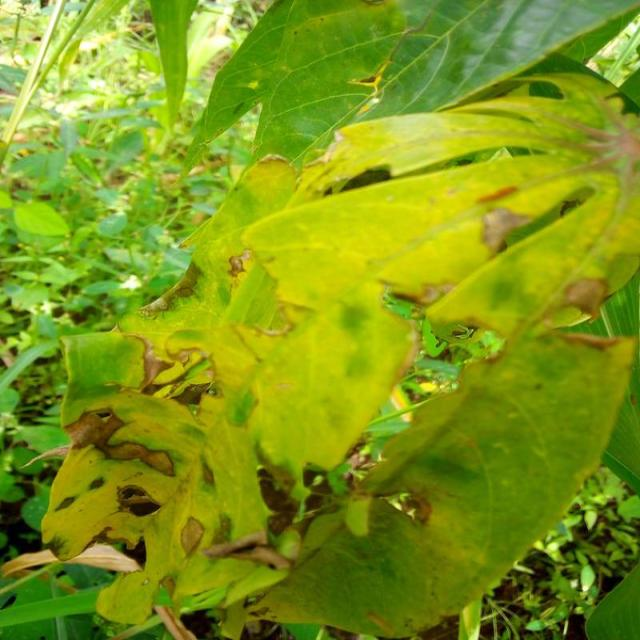cassava leaf: (28, 1, 638, 638)
